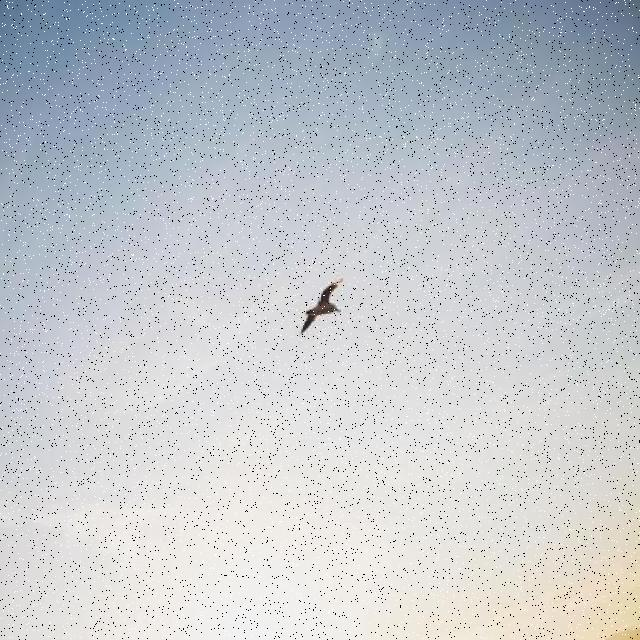bird: (299, 278, 344, 334)
